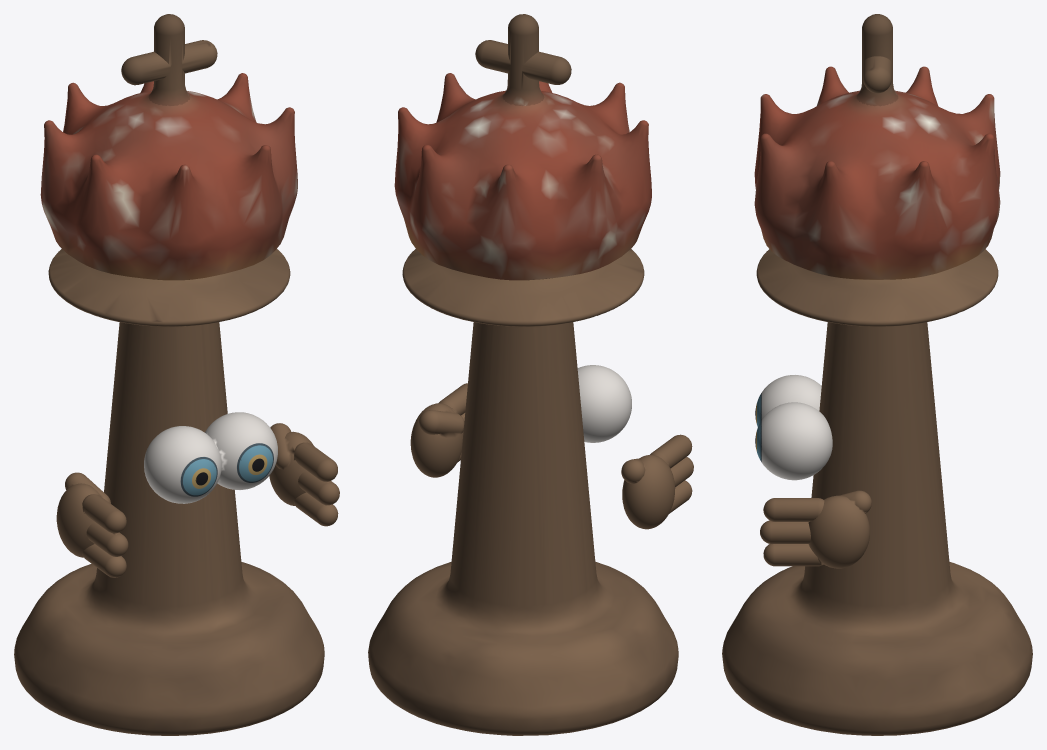
Rendered from king-dark.glb.
3 renders of one model, left to right at view 1: azimuth 30°, elevation 25°; view 2: azimuth 150°, elevation 25°; view 3: azimuth 270°, elevation 25°, orthographic.
Parts seen in each view (by area): view 1: body, eye, hand.1, hand.0; view 2: body, hand.1, hand.0, eye; view 3: body, hand.0, eye.
Boxes of the visible parts, x1=… form: body: x1=14, y1=14, x2=324, y2=735; eye: x1=144, y1=412, x2=277, y2=503; hand.1: x1=56, y1=472, x2=128, y2=577; hand.0: x1=269, y1=423, x2=339, y2=526; body: x1=368, y1=14, x2=678, y2=735; hand.1: x1=621, y1=434, x2=693, y2=529; hand.0: x1=410, y1=383, x2=467, y2=477; eye: x1=577, y1=365, x2=631, y2=442; body: x1=722, y1=14, x2=1032, y2=735; hand.0: x1=760, y1=490, x2=871, y2=568; eye: x1=755, y1=375, x2=832, y2=480.
Bounding box in the file's own units: 2.39 × 5.63 × 2.39.
